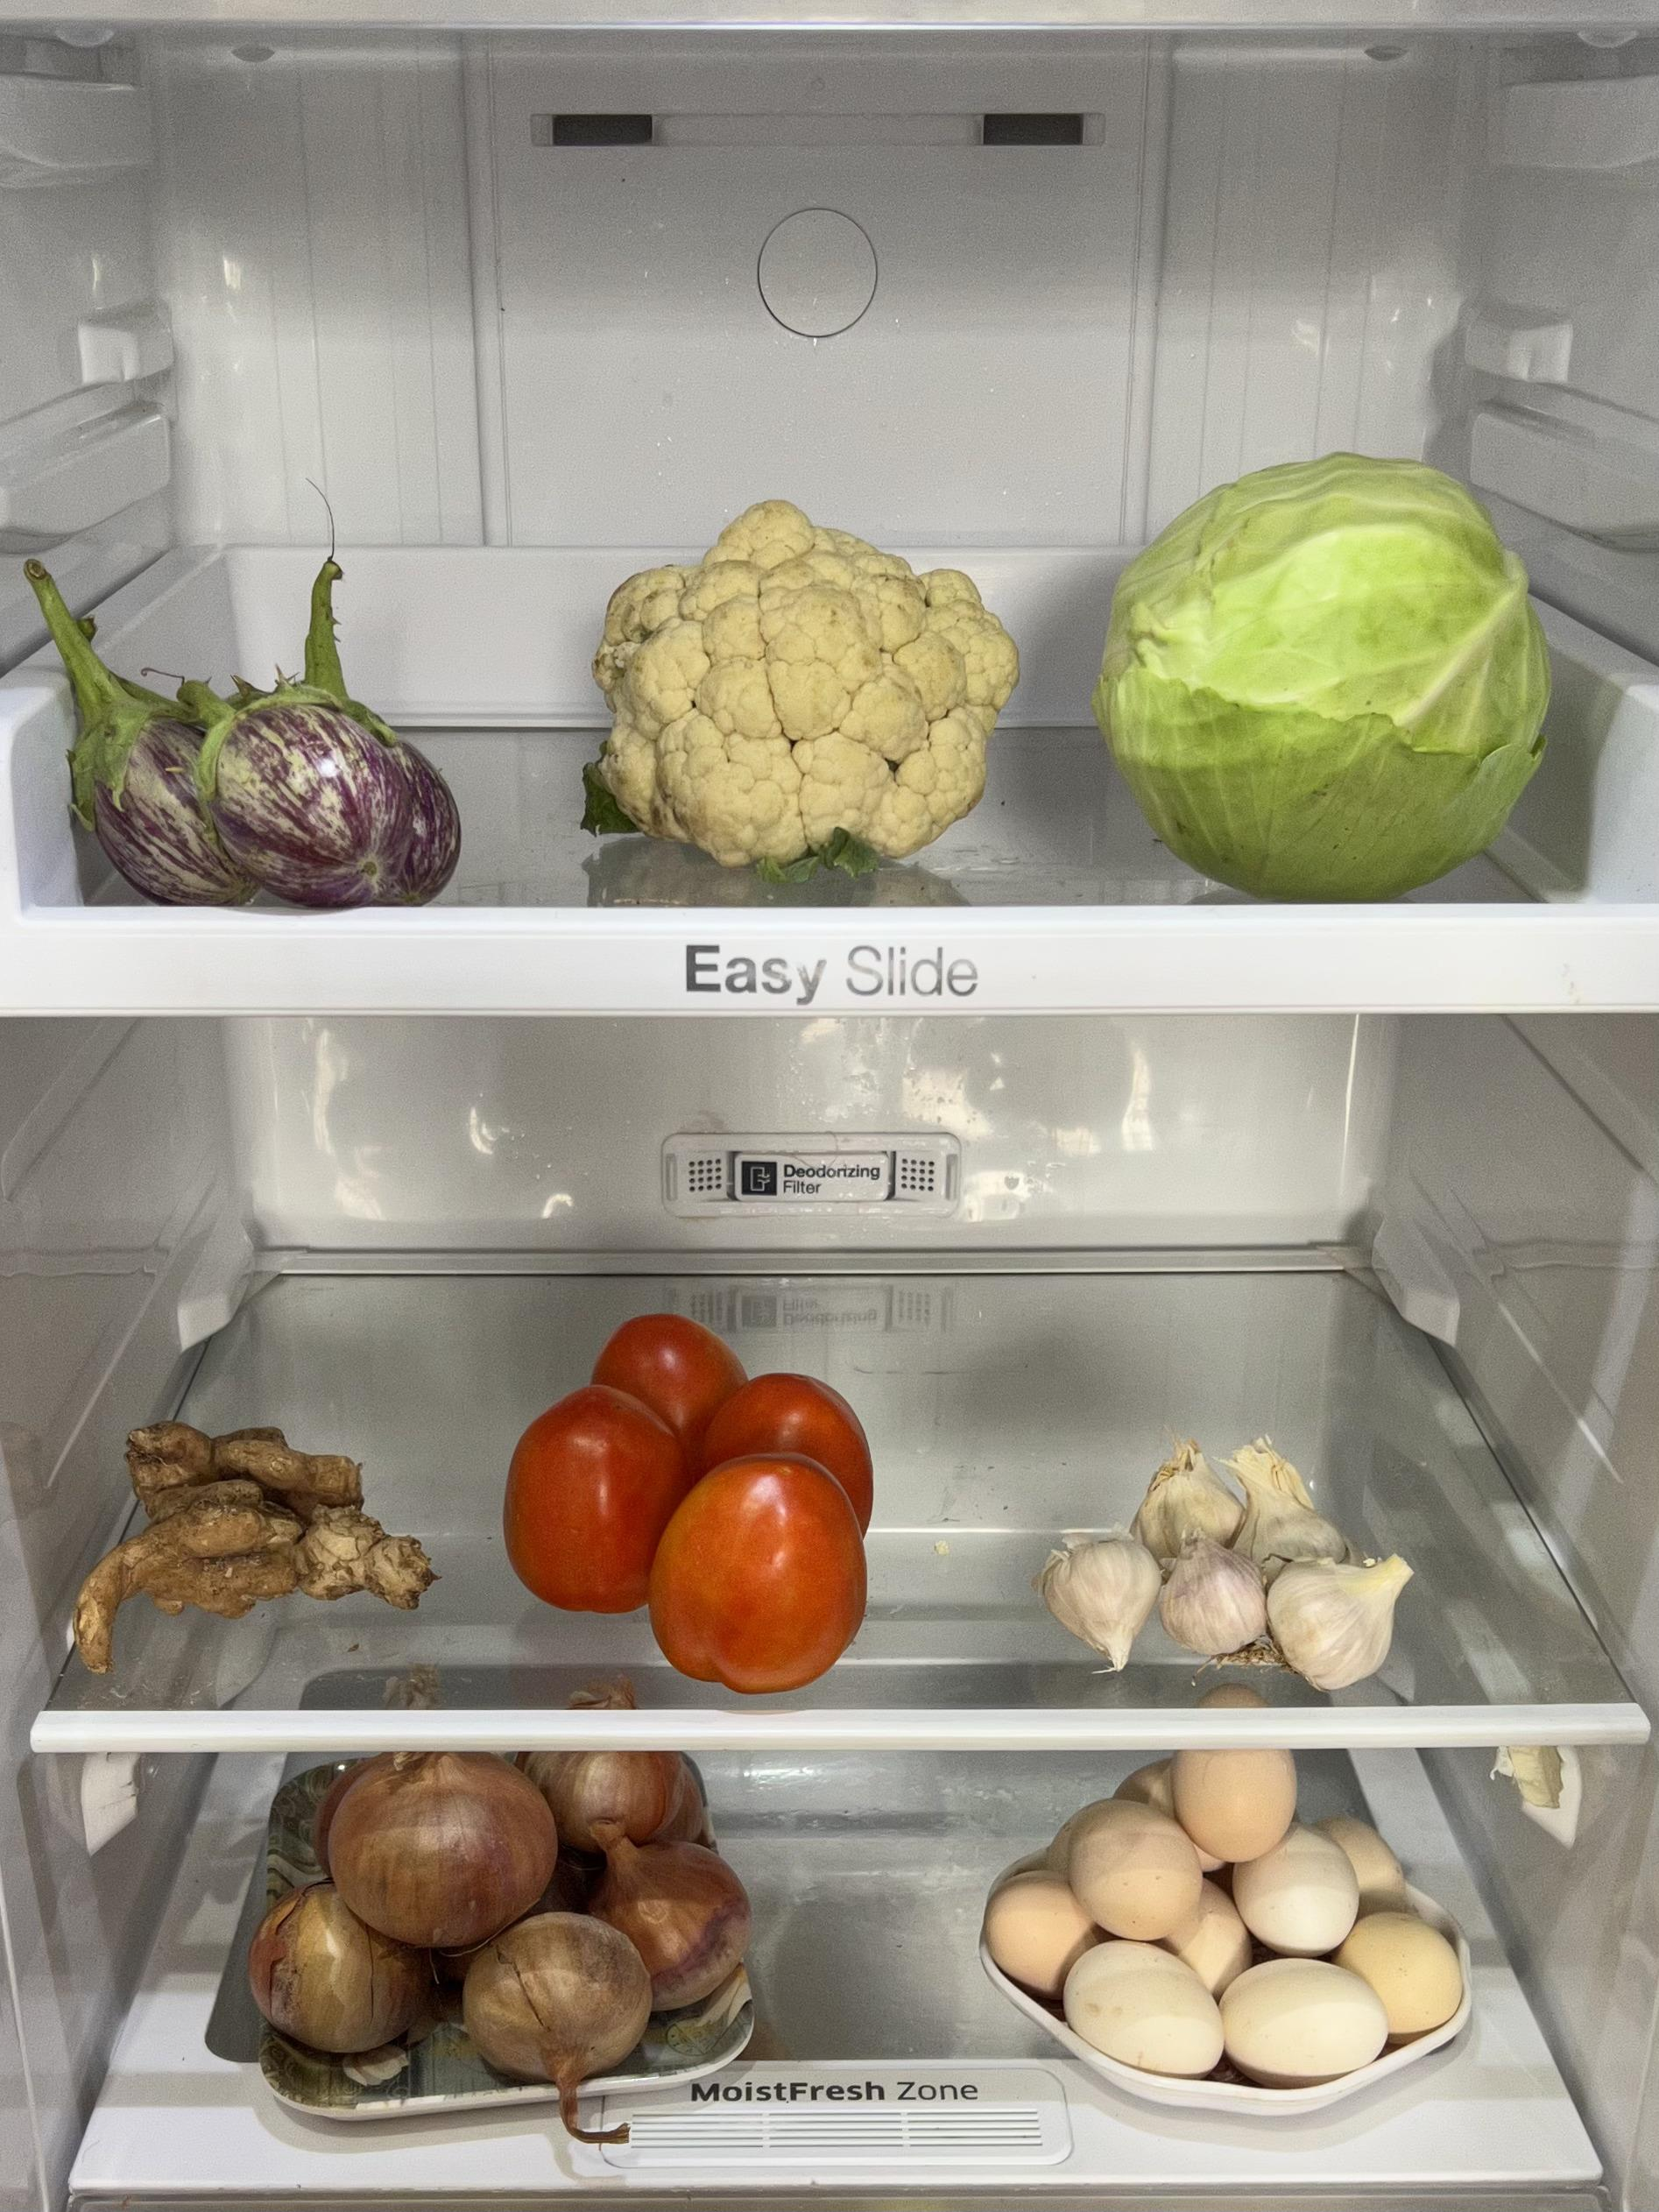bringal: (28, 567, 460, 912)
cabbage: (1110, 443, 1547, 891)
cauliflower: (587, 492, 1018, 880)
egg: (983, 1748, 1471, 2085)
garlic: (1026, 1447, 1422, 1687)
ginger: (63, 1386, 434, 1668)
onion: (242, 1757, 748, 2073)
tomato: (500, 1297, 884, 1691)
